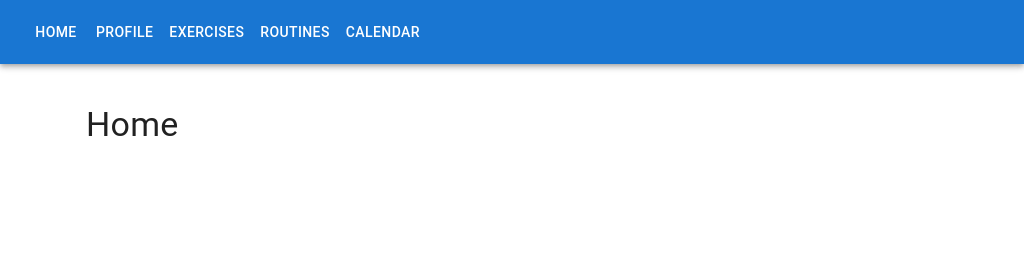
Exercise › should add exercise successfully
The width and height of the screenshot is (1024, 274).
Click the link "Exercises": (207, 32) left=169, top=24, right=244, bottom=40
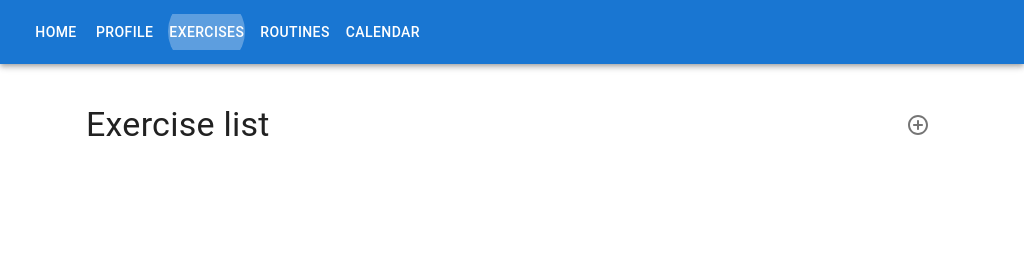
Expected: the heading "Exercise list" is shown, left=86, top=104, right=270, bottom=146
Click the icon with test id "AddCircleOutlineRoundedIcon": (918, 125) left=906, top=113, right=930, bottom=137
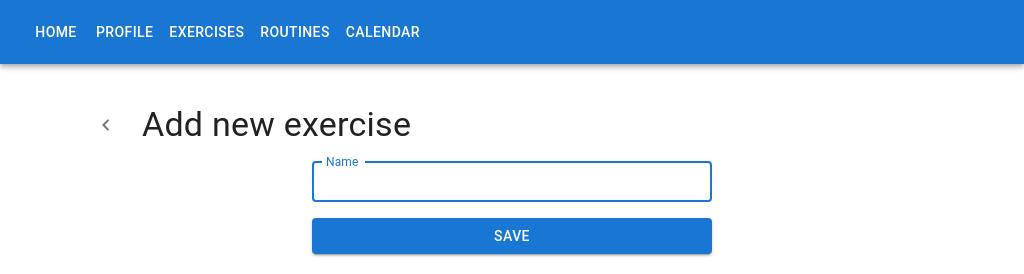
In the field labelled "Name": (512, 182) left=312, top=162, right=712, bottom=202, type "Push-ups"
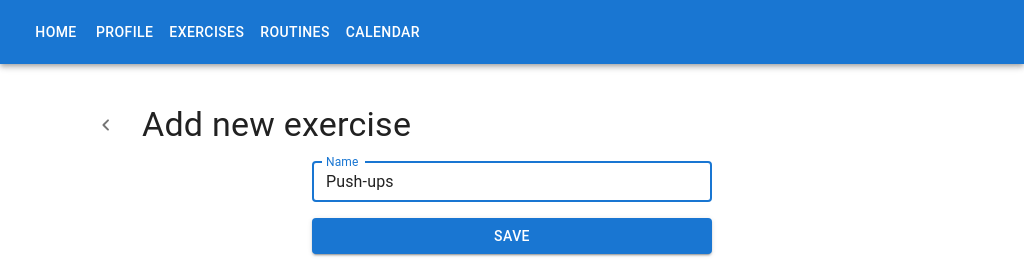
Click the button "Save": (512, 237) left=312, top=218, right=712, bottom=255
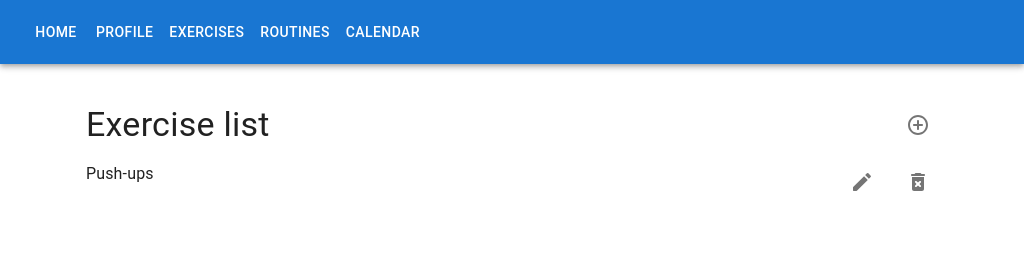
Expected: the heading "Exercise list" is shown, left=86, top=104, right=270, bottom=146
Expected: the text "Push-ups" is shown, left=86, top=164, right=154, bottom=183
